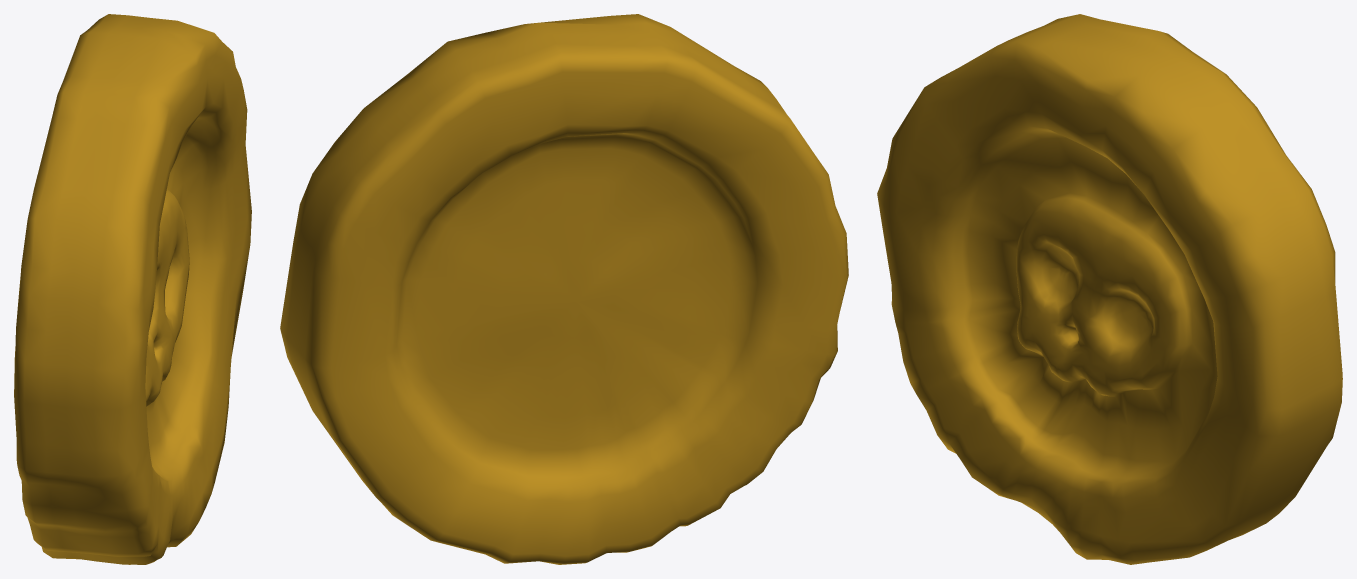
Rendered from pirate.fbx.
The picture shows the model from 3 angles, left to right: view 1: azimuth 30°, elevation 25°; view 2: azimuth 150°, elevation 25°; view 3: azimuth 270°, elevation 25°; orthographic projection. The views are drawn at different scales.
Parts seen in each view (by area): view 1: polySurface1; view 2: polySurface1; view 3: polySurface1.
Boxes of the visible parts, left/top/right/bottom form: polySurface1: left=14, top=14, right=251, bottom=564; polySurface1: left=280, top=14, right=848, bottom=564; polySurface1: left=877, top=14, right=1342, bottom=564.
Size of the model in its own units: 170 by 206 by 173.
